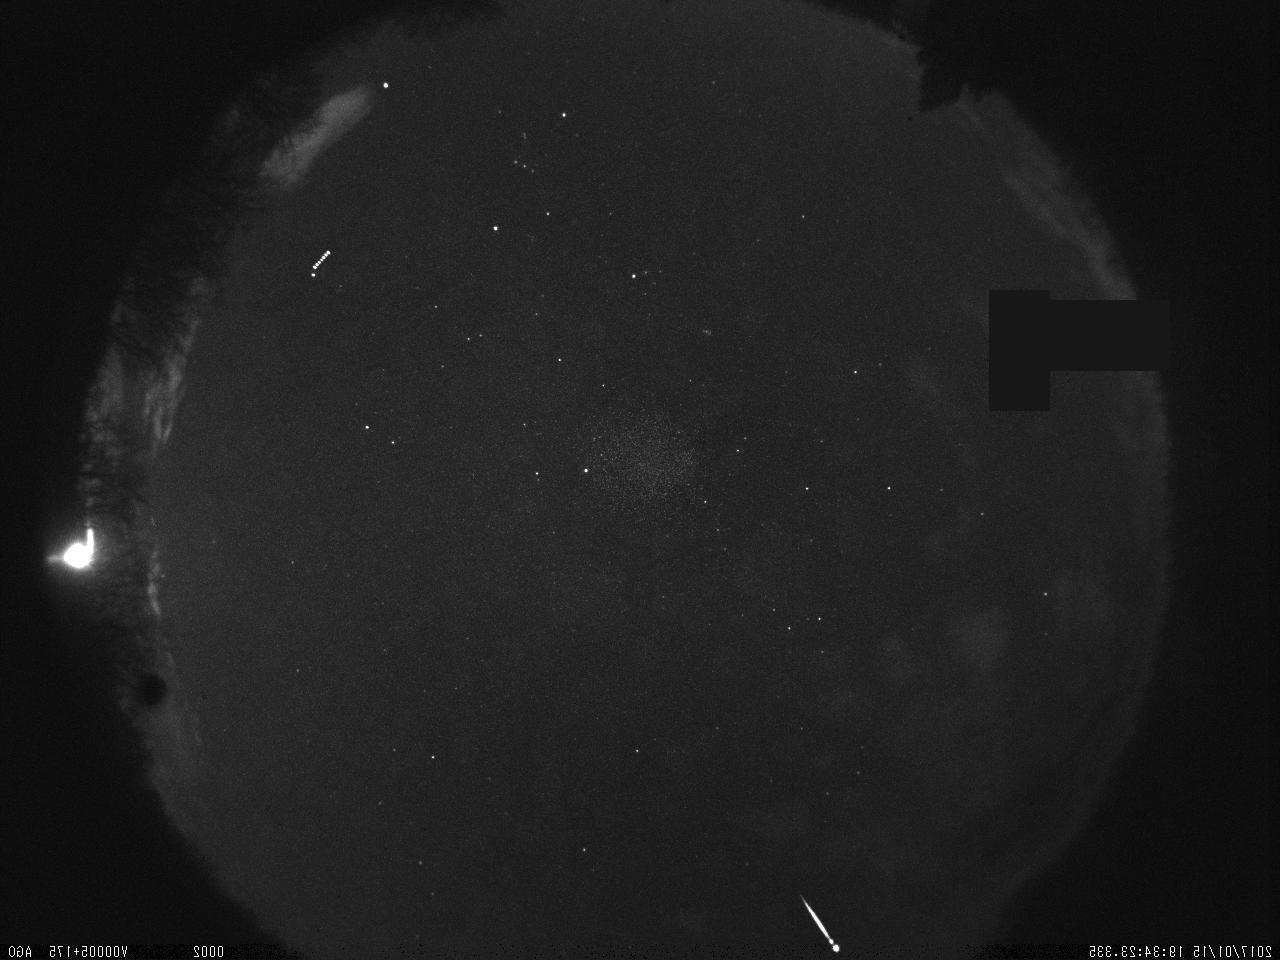meteor: (786, 891, 853, 958)
